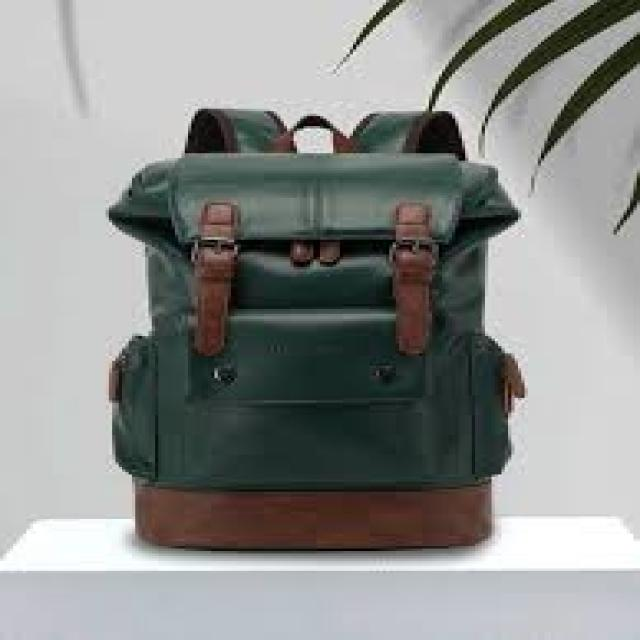backpack: (103, 107, 526, 550)
